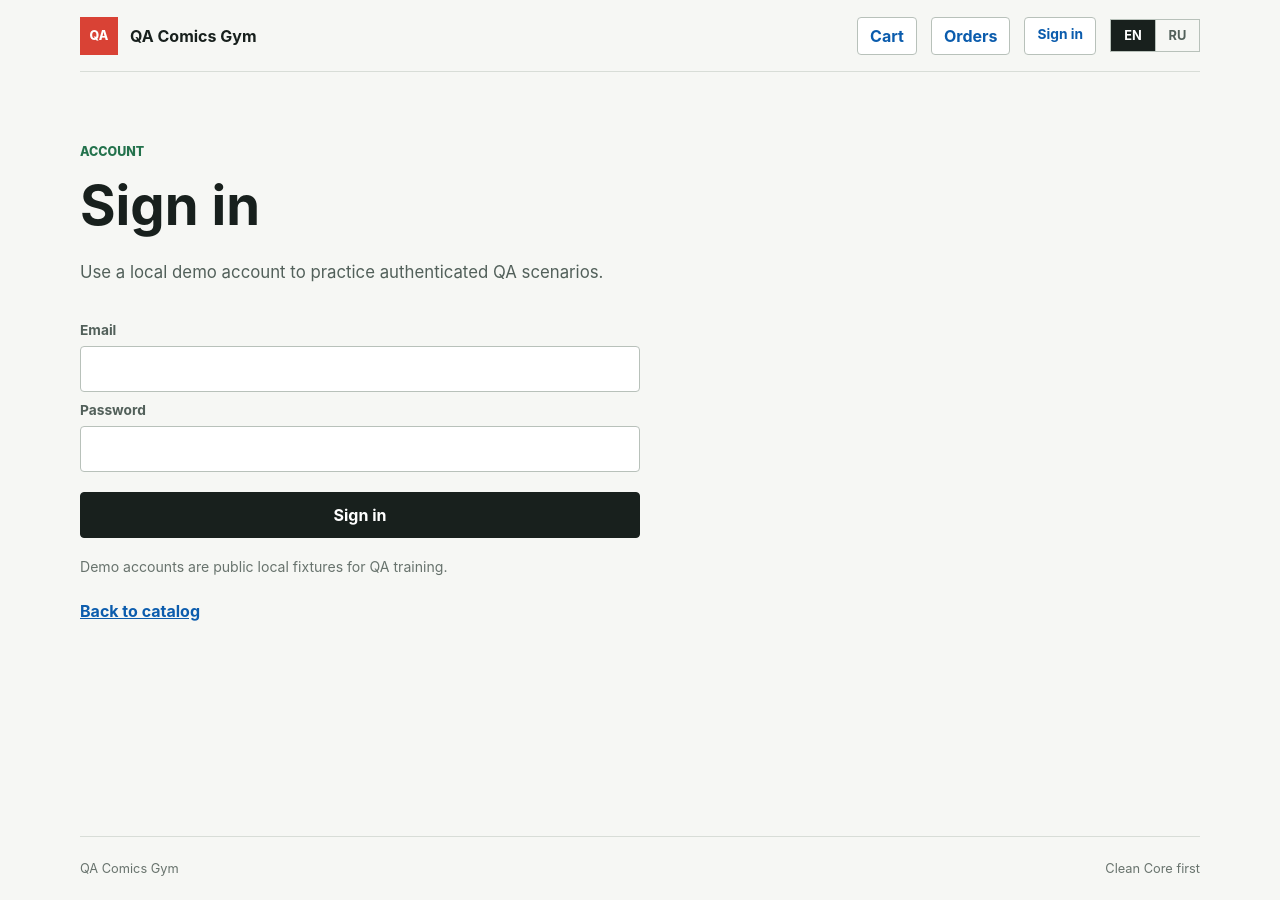
frontend auth flow › logs in a demo user, updates shell state, and returns to catalog
Type "USER@QACOMICS.LOCAL" into the field labelled "Email".
click(360, 369); type("USER@QACOMICS.LOCAL")  # box [80,346,640,392]
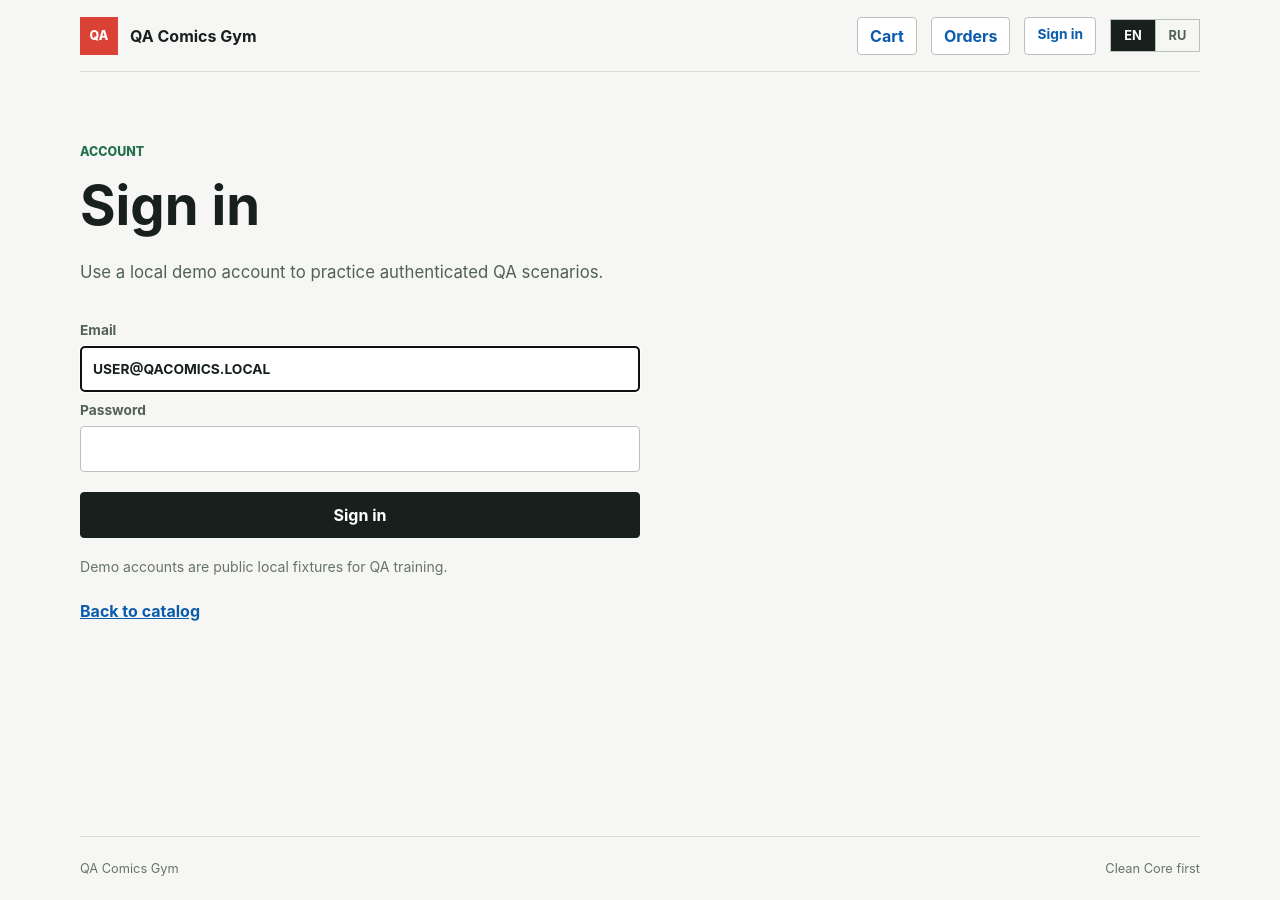
Type "DemoUserPassphrase2026!" into the password field labelled "Password".
click(360, 449); type("DemoUserPassphrase2026!")  # box [80,426,640,472]
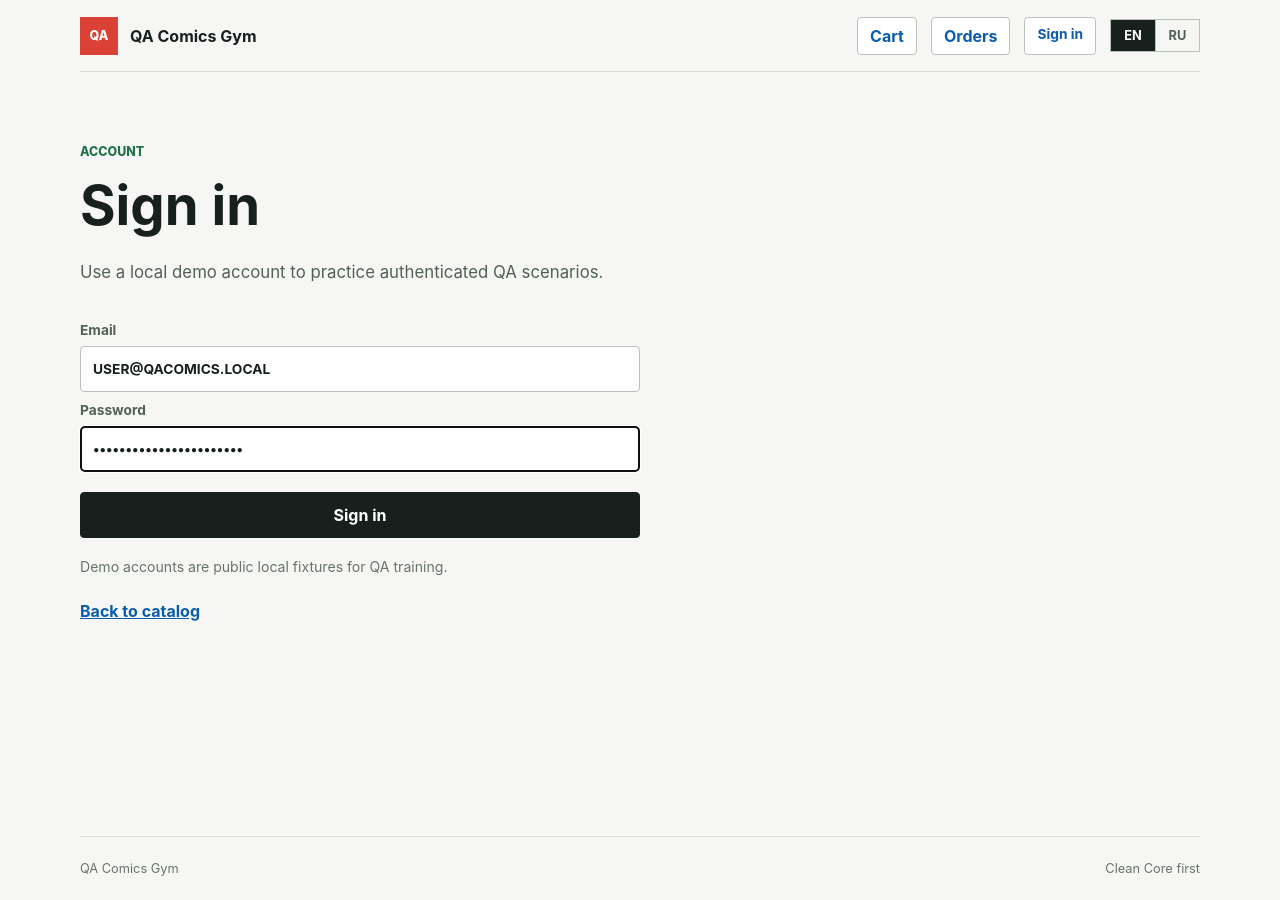
Click the button "Sign in".
click(360, 515)  # box [80,492,640,538]
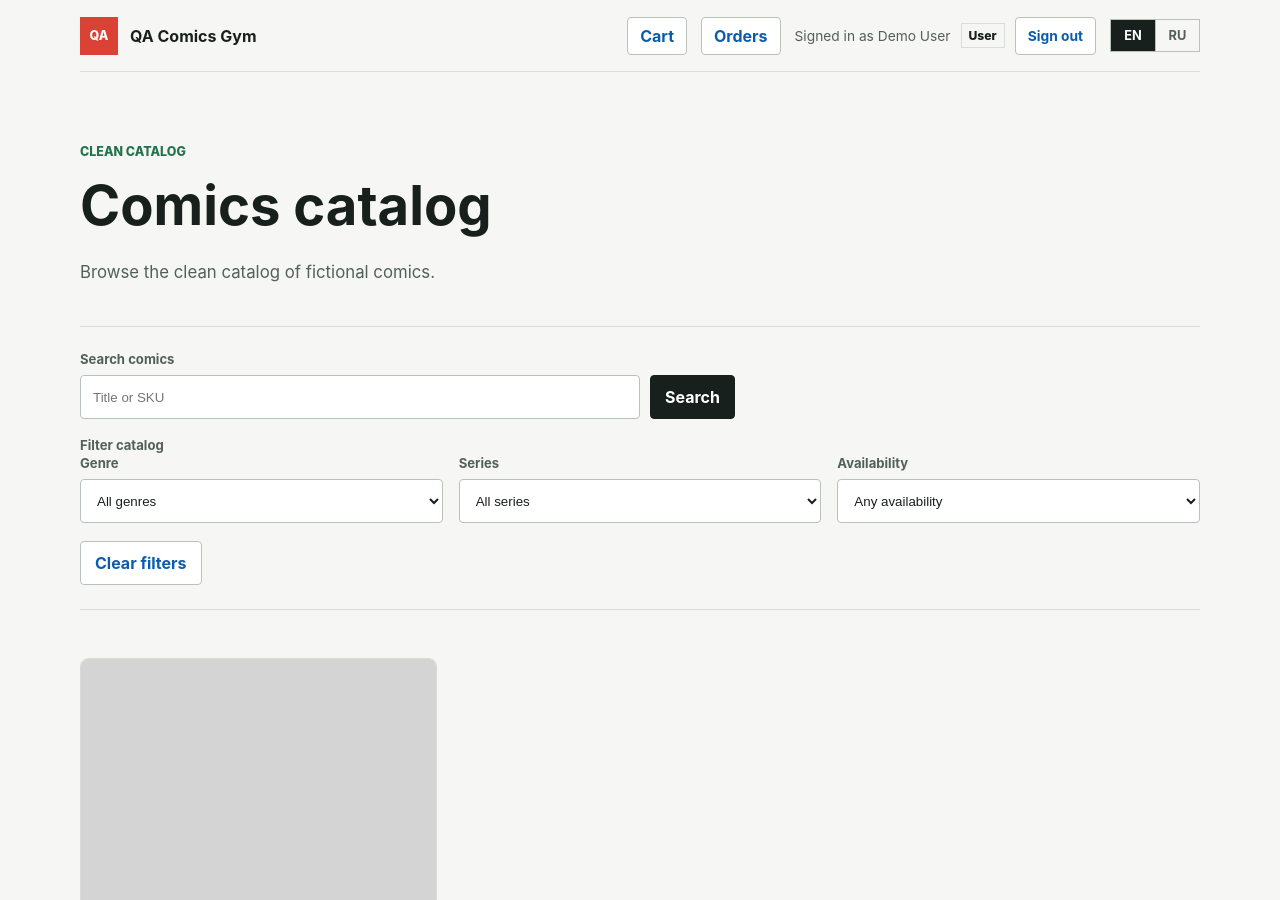
Expected: the text "Signed in as Demo User" is shown, [794,28,950,44]
Expected: the text "User" is shown, [960,23,1005,48]
